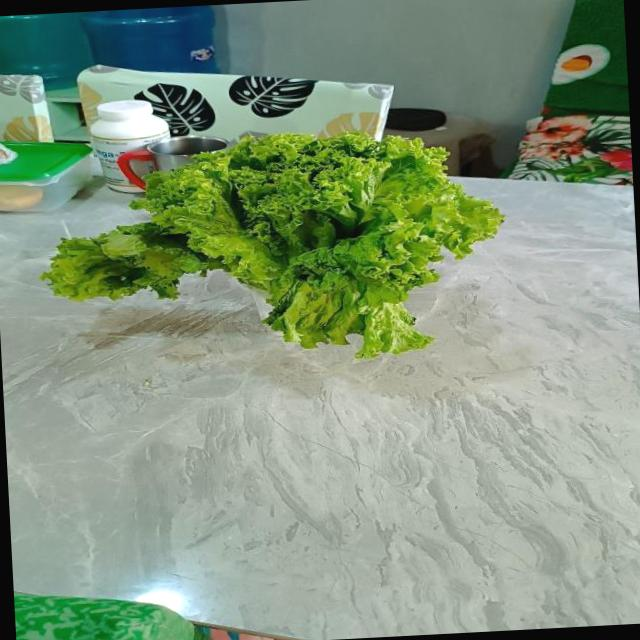Lettuce-Ready-to-Harvest: (43, 133, 503, 357)
